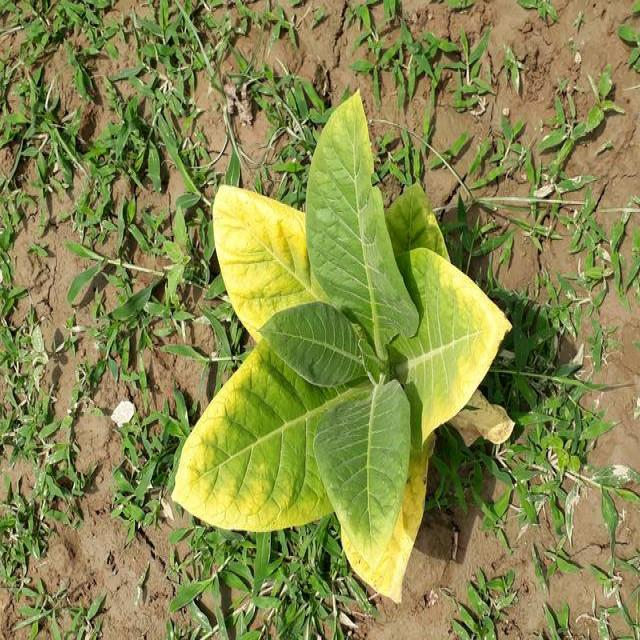crop: (172, 81, 524, 604)
